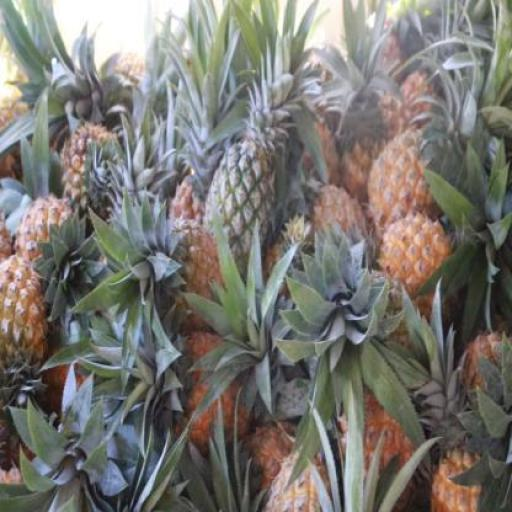Pineapple - v8 v1: (368, 136, 439, 238), (0, 257, 50, 384), (379, 219, 451, 307)
